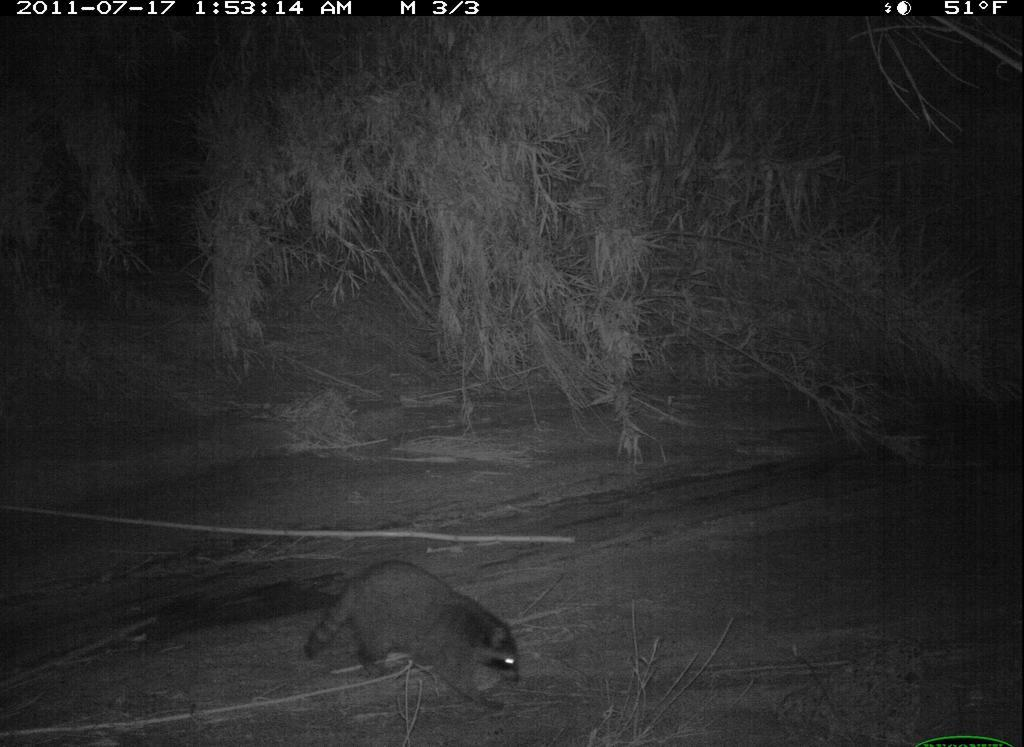raccoon: (292, 546, 545, 720)
